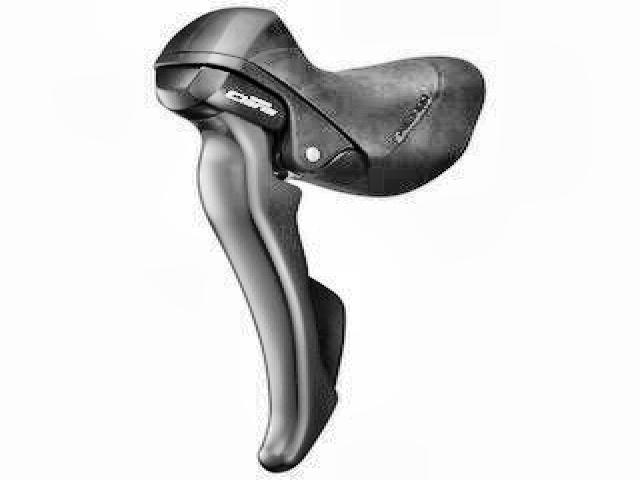sti_shifter: (150, 9, 489, 474)
